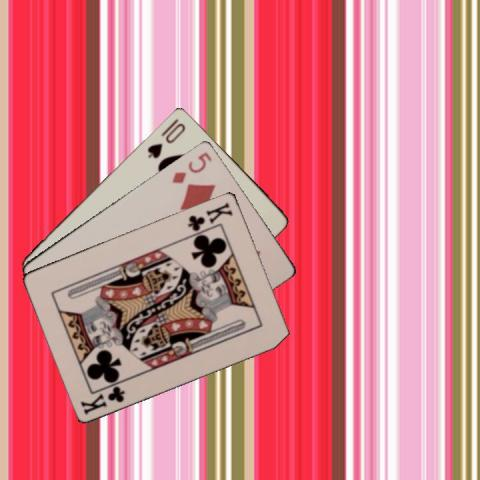10s: (144, 120, 187, 160)
5d: (169, 148, 214, 184)
Kc: (77, 382, 127, 415), (185, 199, 234, 232)
